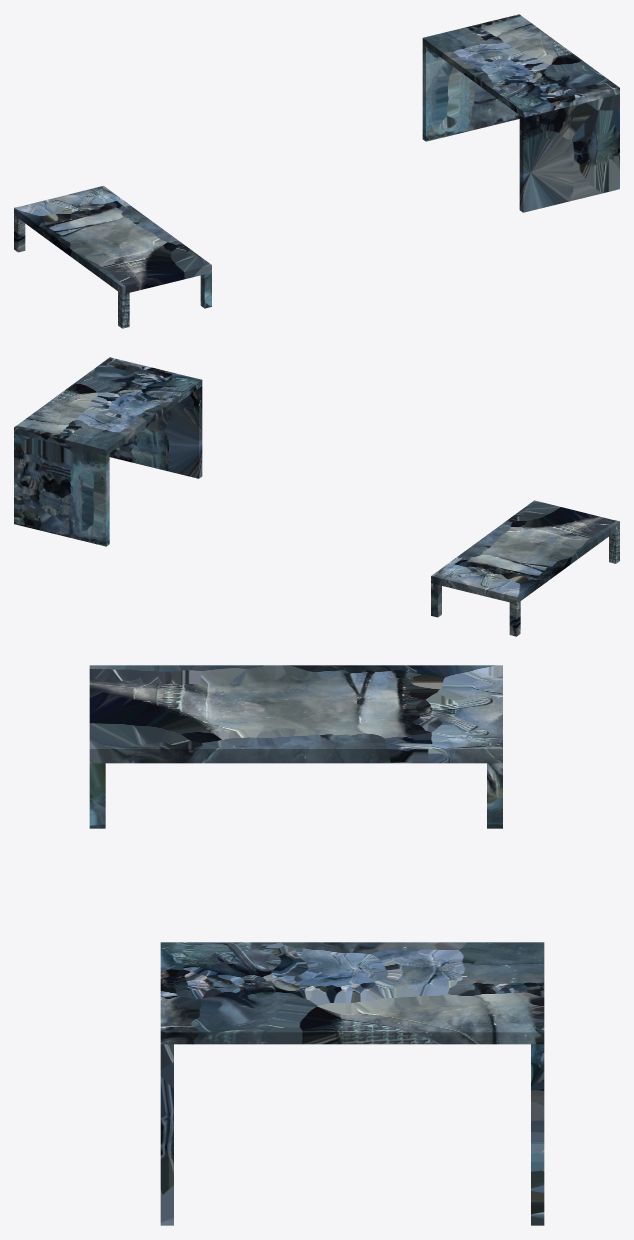
File: futuristic_room_14.obj
3 views of the same model, one above another, from view 1: azimuth 30°, elevation 25°; view 2: azimuth 150°, elevation 25°; view 3: azimuth 270°, elevation 25° (orthographic). The views are drawn at different scales.
Size of the model in its own units: 4.27 by 0.8 by 1.71.
